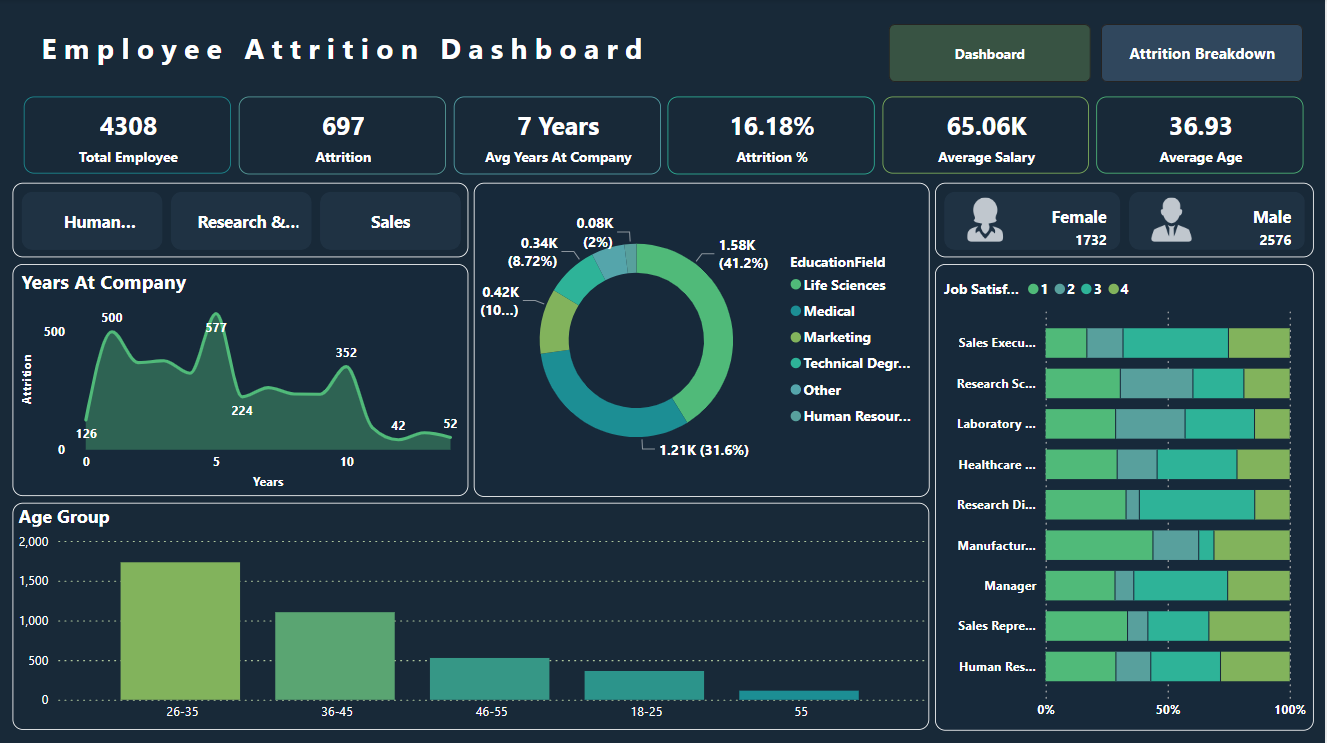

Layout of this report page (visuals, bound fields, positions):
{"tool":"powerbi","page":{"name":"Dashboard ","canvas":[1280,720],"ordinal":0},"visuals":[{"type":"image","box":[1103.9,187,54.3,51.9],"z":0},{"type":"image","box":[924.1,187,54.3,51.9],"z":1000},{"type":"advancedSlicerVisual","fields":{"Values":["Attrition data.Gender"]},"box":[902.4,177.3,365.6,72.4],"z":2000},{"type":"shape","box":[0,0,1280,12.1],"z":3000},{"type":"shape","box":[0,708.2,1280,12.1],"z":4000},{"type":"shape","box":[0,24.1,12.1,672],"z":5000},{"type":"shape","box":[1268,24.1,12.1,672],"z":6000},{"type":"card","fields":{"Values":["Attrition data.Employee_Count"]},"box":[22.9,94.4,200.3,74.8],"z":7000},{"type":"card","fields":{"Values":["Attrition data.Employee_Attrition"]},"box":[230.4,93.9,200,75],"z":8000},{"type":"card","fields":{"Values":["Attrition data.Years_With_Text"]},"box":[437.5,94.1,200,75],"z":9000},{"type":"card","fields":{"Values":["Attrition data.Attrition%"]},"box":[644.7,94.2,200,75],"z":10000},{"type":"card","fields":{"Values":["Attrition data.Average_Salary"]},"box":[851.8,94.3,199.1,74.8],"z":11000},{"type":"card","fields":{"Values":["Attrition data.Average_Age"]},"box":[1058,94.2,200.3,74.8],"z":12000},{"type":"areaChart","title":"Years At Company","fields":{"Y":["CountNonNull(Attrition data.Attrition)"],"Category":["Attrition data.YearsAtCompany"]},"box":[12.1,255.8,440,224.4],"z":13000},{"type":"donutChart","fields":{"Category":["Attrition data.EducationField"],"Y":["CountNonNull(Attrition data.Attrition)"]},"box":[457.2,177.3,440.4,302.8],"z":14000},{"type":"clusteredColumnChart","title":"Age Group","fields":{"Category":["Attrition data.Age Group"],"Y":["CountNonNull(Attrition data.Attrition)"]},"box":[12.1,486.2,885,219.6],"z":15000},{"type":"hundredPercentStackedBarChart","fields":{"Y":["Attrition data.Employee_Attrition"],"Series":["Attrition data.JobSatisfaction"],"Category":["Attrition data.JobRole"]},"box":[902.4,255.8,365.6,450],"z":16000},{"type":"advancedSlicerVisual","fields":{"Values":["Attrition data.Department"]},"box":[12.1,177.3,440.4,72.4],"z":17000},{"type":"textbox","box":[15.7,24.1,628.6,56.7],"z":18000},{"type":"pageNavigator","box":[857.8,24.1,400.5,56.7],"z":18001}]}

Visuals, with their boxes in screenshot pixels (x1, y1, x2, y2), scaled from the page's 1280x720 canvas onto the 1327x743 screenshot:
image: bbox=(1144, 193, 1201, 247)
image: bbox=(958, 193, 1014, 247)
advancedSlicerVisual - Attrition data.Gender: bbox=(936, 183, 1315, 258)
shape: bbox=(0, 0, 1326, 12)
shape: bbox=(0, 731, 1326, 742)
shape: bbox=(0, 25, 13, 718)
shape: bbox=(1315, 25, 1326, 718)
card - Attrition data.Employee_Count: bbox=(24, 97, 231, 175)
card - Attrition data.Employee_Attrition: bbox=(239, 97, 446, 174)
card - Attrition data.Years_With_Text: bbox=(454, 97, 661, 175)
card - Attrition data.Attrition%: bbox=(668, 97, 876, 175)
card - Attrition data.Average_Salary: bbox=(883, 97, 1089, 175)
card - Attrition data.Average_Age: bbox=(1097, 97, 1305, 174)
"Years At Company" areaChart: bbox=(13, 264, 469, 496)
donutChart - Attrition data.EducationField x CountNonNull(Attrition data.Attrition): bbox=(474, 183, 931, 495)
"Age Group" clusteredColumnChart: bbox=(13, 502, 930, 728)
hundredPercentStackedBarChart - Attrition data.Employee_Attrition x Attrition data.JobSatisfaction: bbox=(936, 264, 1315, 728)
advancedSlicerVisual - Attrition data.Department: bbox=(13, 183, 469, 258)
textbox: bbox=(16, 25, 668, 83)
pageNavigator: bbox=(889, 25, 1305, 83)
